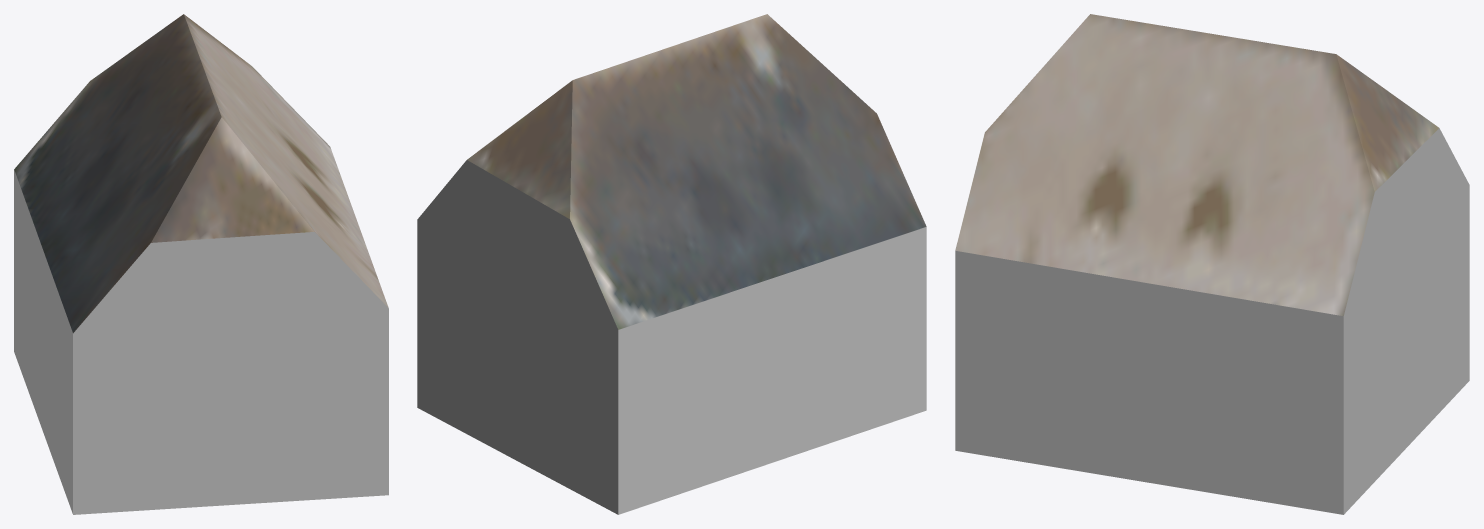
Rendered from DEBW_0010007Txfg.gltf.
The picture shows the model from 3 angles, left to right: view 1: azimuth 30°, elevation 25°; view 2: azimuth 150°, elevation 25°; view 3: azimuth 270°, elevation 25°; orthographic projection. The views are drawn at different scales.
Parts seen in each view (by area): view 1: Z_UP; view 2: Z_UP; view 3: Z_UP.
Part boxes in pixels (x1,y1,x2,y2): Z_UP: (14,14,388,514); Z_UP: (417,14,926,514); Z_UP: (955,14,1469,514).
Size of the model in its own units: 14.09 by 12.67 by 15.44.
Materials: 2 (1 with a texture image).
